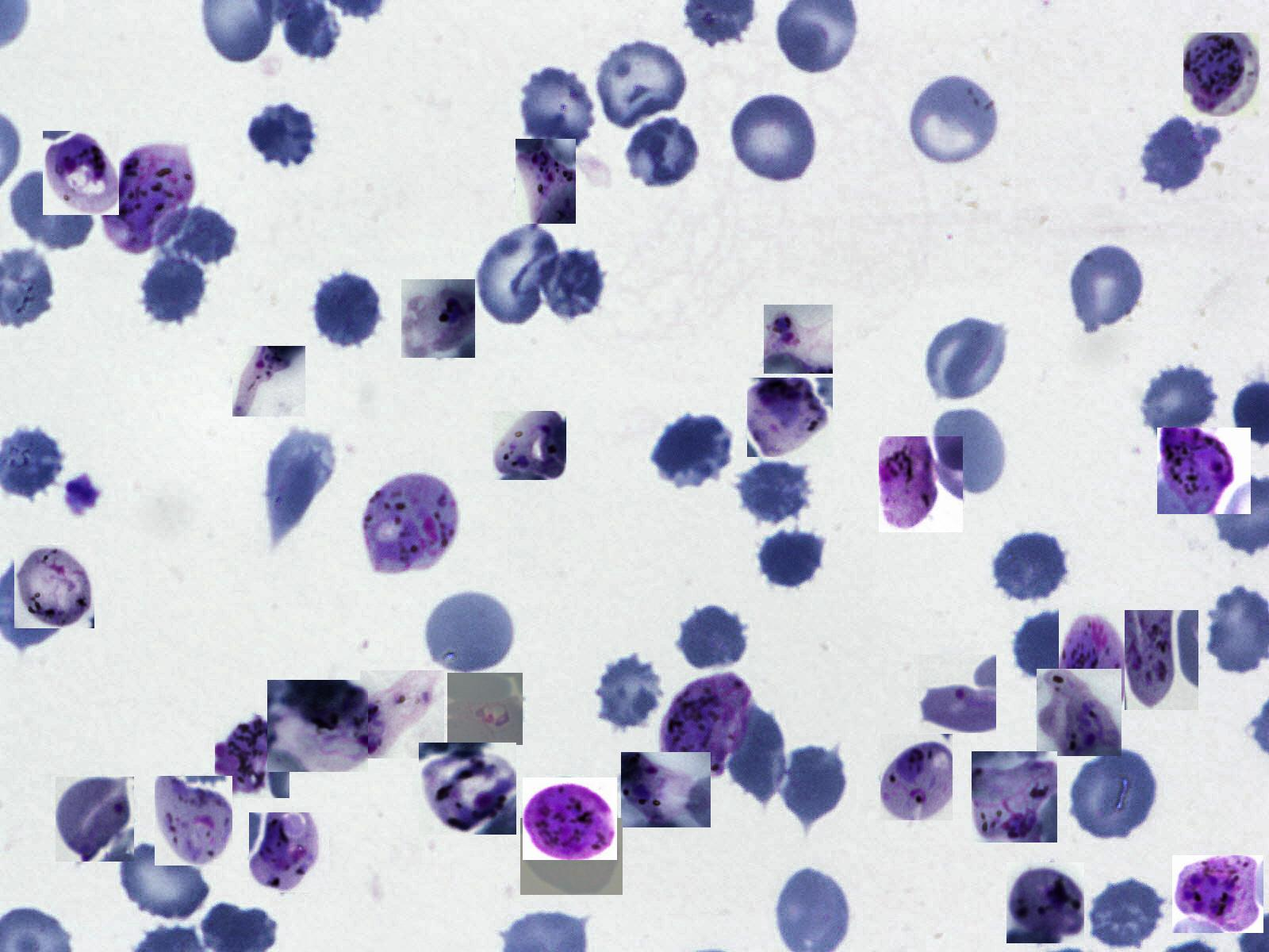Infected: (105, 143, 196, 256), (361, 472, 456, 575), (268, 680, 369, 772), (662, 672, 753, 773), (419, 743, 516, 835), (1157, 428, 1251, 514), (879, 436, 963, 532), (520, 818, 623, 895), (972, 751, 1057, 843), (523, 777, 617, 860), (1123, 610, 1198, 710), (360, 670, 444, 758), (1037, 669, 1121, 756), (1059, 608, 1125, 718), (1172, 855, 1263, 933), (155, 776, 232, 866), (747, 378, 833, 457), (622, 752, 711, 827), (14, 545, 94, 628), (56, 777, 134, 862), (249, 812, 329, 892), (1183, 33, 1259, 117), (1006, 862, 1084, 943), (44, 131, 119, 215), (880, 734, 953, 820), (918, 654, 996, 733), (215, 715, 289, 798), (401, 279, 475, 358), (447, 674, 523, 746), (232, 346, 305, 416), (516, 139, 576, 224), (493, 411, 566, 480), (764, 305, 833, 374)
Uninfected: (910, 72, 1003, 170), (1069, 746, 1161, 844), (729, 90, 822, 186), (595, 36, 688, 132), (476, 226, 557, 333), (423, 588, 517, 680), (259, 422, 335, 532), (115, 837, 212, 923), (10, 165, 98, 254), (516, 63, 600, 155), (721, 701, 793, 808), (923, 313, 1010, 401), (928, 405, 1009, 499), (1068, 240, 1147, 332), (1137, 360, 1223, 440), (651, 411, 734, 491), (991, 528, 1072, 605), (1140, 111, 1216, 193), (311, 270, 385, 351), (533, 243, 607, 324), (1091, 874, 1167, 951), (734, 454, 815, 526), (779, 743, 848, 827), (245, 98, 323, 171), (626, 117, 704, 189), (136, 248, 209, 324), (676, 601, 751, 674), (595, 654, 661, 727), (749, 526, 821, 589), (158, 208, 237, 264), (1014, 612, 1079, 679)
